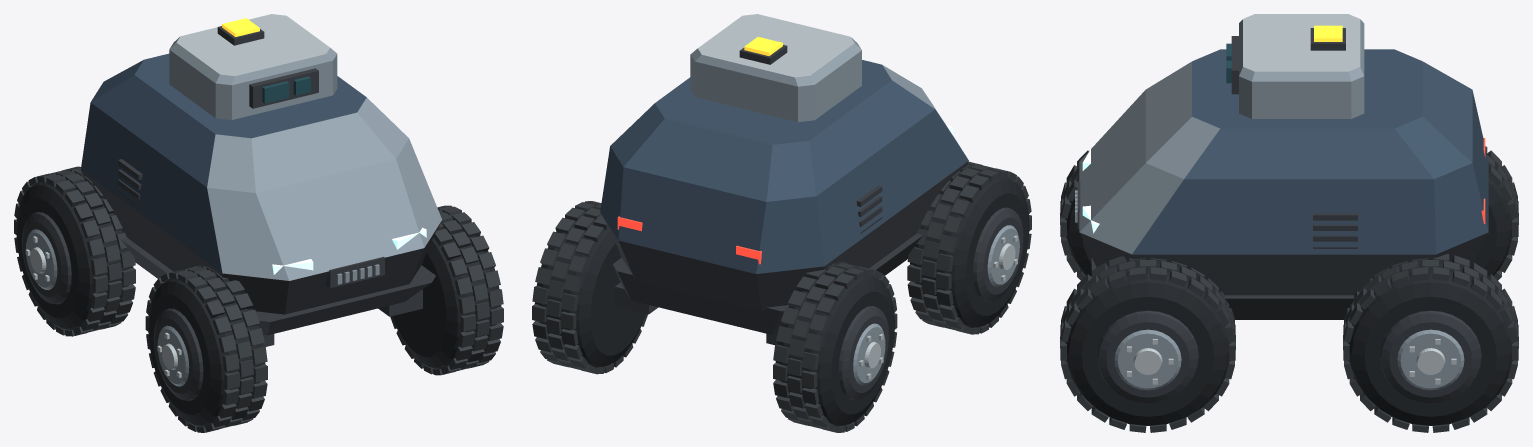
The model's file is inspection-rover-t8.glb.
3 renders of one model, left to right at view 1: azimuth 30°, elevation 25°; view 2: azimuth 150°, elevation 25°; view 3: azimuth 270°, elevation 25°, orthographic. The views are drawn at different scales.
Parts seen in each view (by area): view 1: Faceted inspection rover, Wheel_FL, Wheel_RL, Wheel_FR; view 2: Faceted inspection rover, Wheel_RL, Wheel_FL, Wheel_RR; view 3: Faceted inspection rover, Wheel_RR, Wheel_FR, Wheel_RL, Wheel_FL.
Part boxes in pixels (left/top/right/bottom): Faceted inspection rover: left=81, top=14, right=441, bottom=346; Wheel_FL: left=145, top=265, right=267, bottom=432; Wheel_RL: left=14, top=166, right=135, bottom=336; Wheel_FR: left=390, top=205, right=503, bottom=375; Faceted inspection rover: left=600, top=14, right=968, bottom=345; Wheel_RL: left=773, top=262, right=897, bottom=432; Wheel_FL: left=907, top=161, right=1031, bottom=334; Wheel_RR: left=532, top=201, right=647, bottom=374; Faceted inspection rover: left=1075, top=14, right=1488, bottom=319; Wheel_RR: left=1343, top=254, right=1518, bottom=432; Wheel_FR: left=1060, top=256, right=1235, bottom=432; Wheel_RL: left=1472, top=146, right=1518, bottom=280; Wheel_FL: left=1060, top=150, right=1091, bottom=280.
Bounding box in the file's own units: 0.962 × 0.8973 × 1.14.
